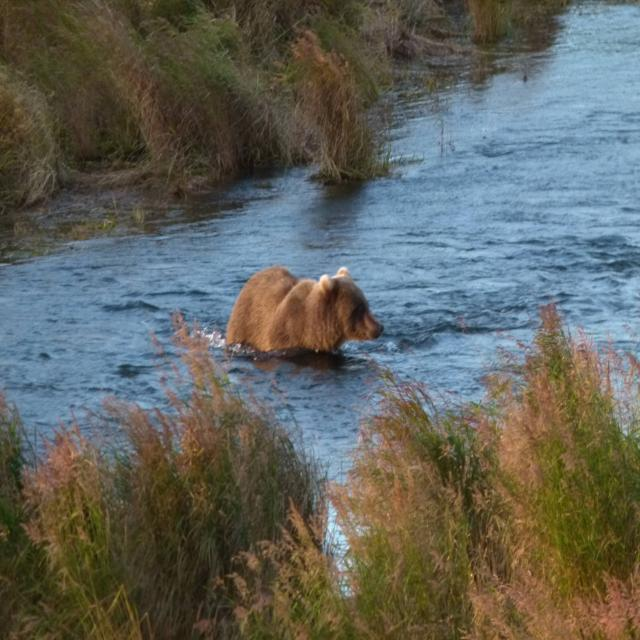bear face: (226, 264, 386, 347)
